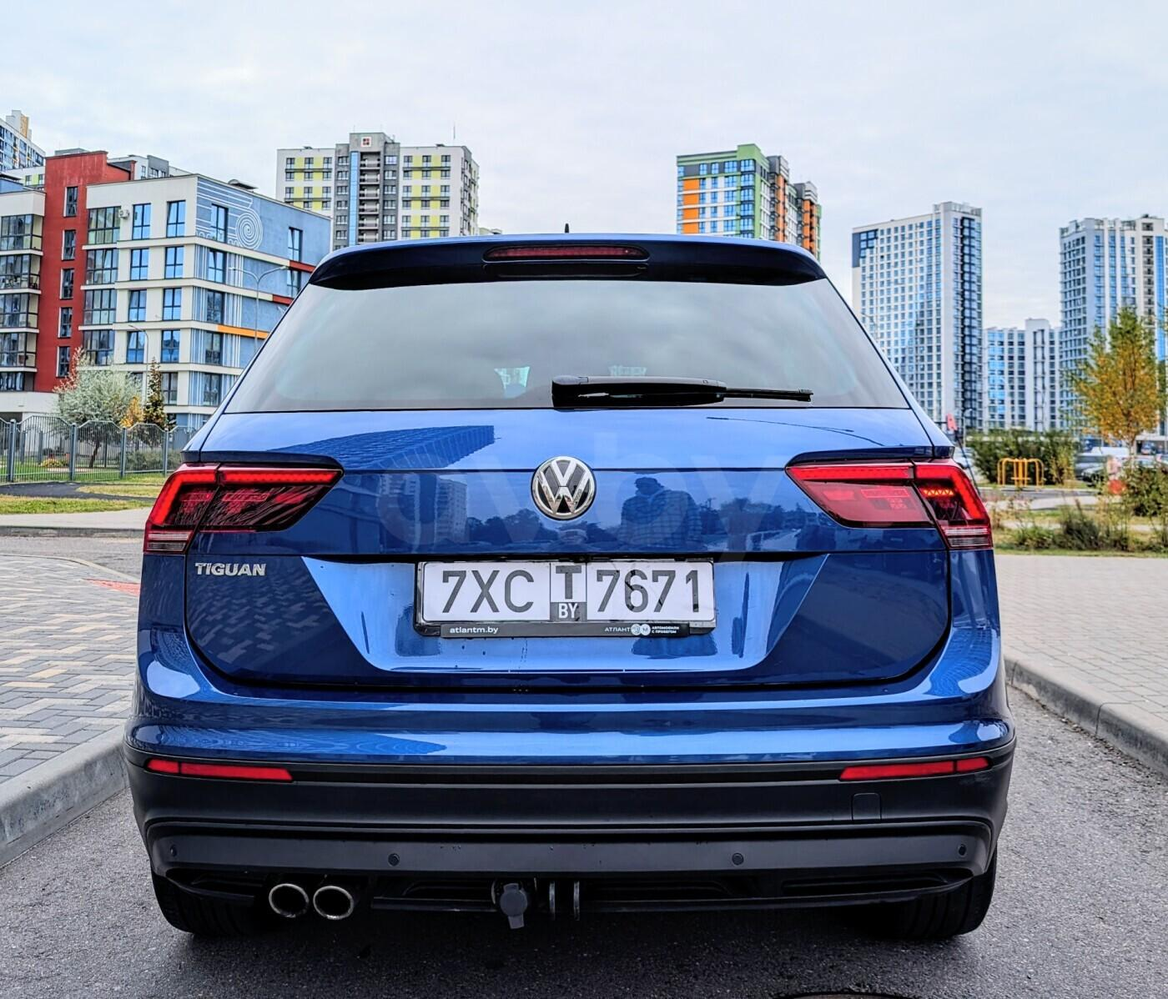Tiguan_2016-2021: (114, 225, 1012, 952)
